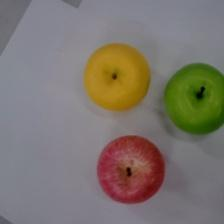green: (164, 62, 224, 135)
red: (96, 135, 166, 204)
yellow: (84, 43, 151, 112)
